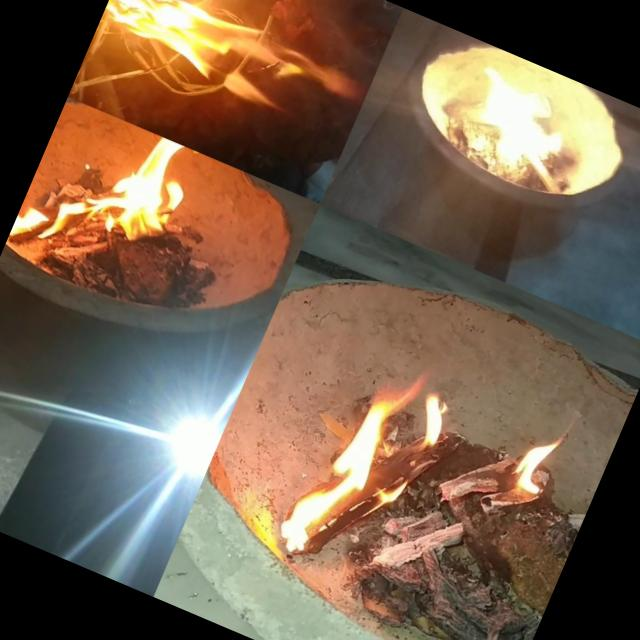fire: (264, 316, 585, 640), (3, 96, 222, 312), (455, 46, 617, 192)
